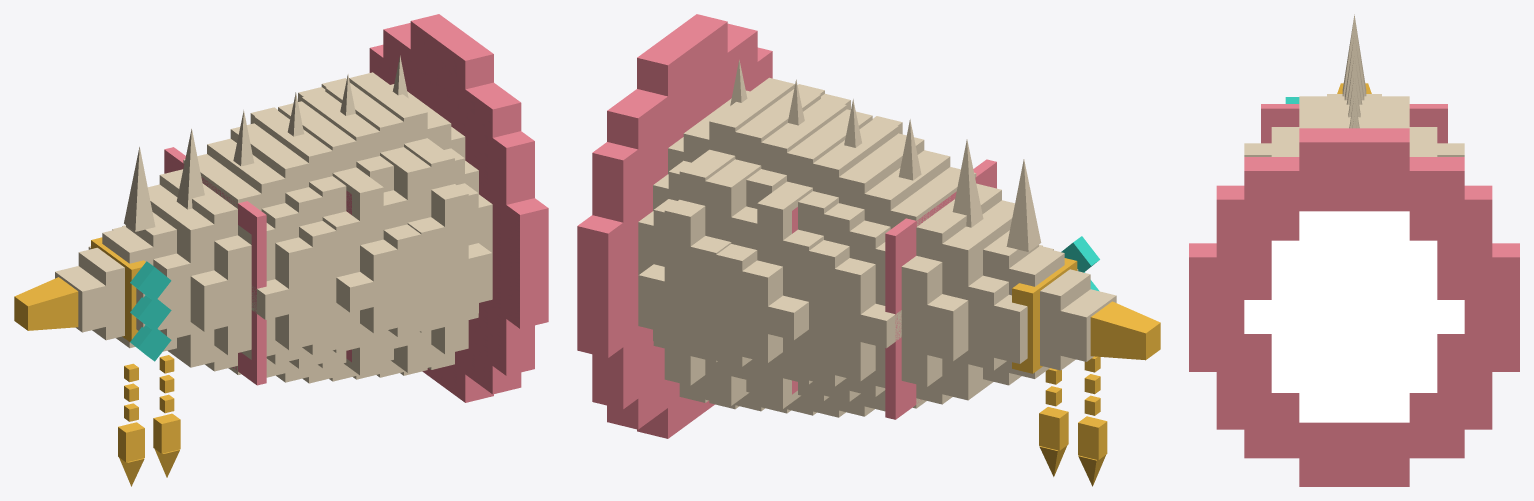
The picture shows the model from 3 angles, left to right: view 1: azimuth 30°, elevation 25°; view 2: azimuth 150°, elevation 25°; view 3: azimuth 270°, elevation 25°; orthographic projection. The views are drawn at different scales.
Visible parts, largest first — view 1: R013_Main, R013_Accent, R013_Trim, R013_Gem; view 2: R013_Main, R013_Accent, R013_Trim, R013_Gem; view 3: R013_Accent, R013_Glow, R013_Main.
Boxes of the visible parts, x1,y1,x2,y2 form: R013_Main: (55, 55, 492, 383); R013_Accent: (164, 14, 548, 402); R013_Trim: (14, 237, 180, 486); R013_Gem: (130, 261, 171, 361); R013_Main: (638, 60, 1116, 417); R013_Accent: (577, 14, 996, 438); R013_Trim: (1012, 258, 1160, 486); R013_Gem: (1061, 236, 1099, 291); R013_Accent: (1189, 104, 1519, 486); R013_Glow: (1244, 211, 1464, 422); R013_Main: (1244, 14, 1464, 156).
Bounding box in the file's own units: 1.92 × 1.39 × 1.2.
